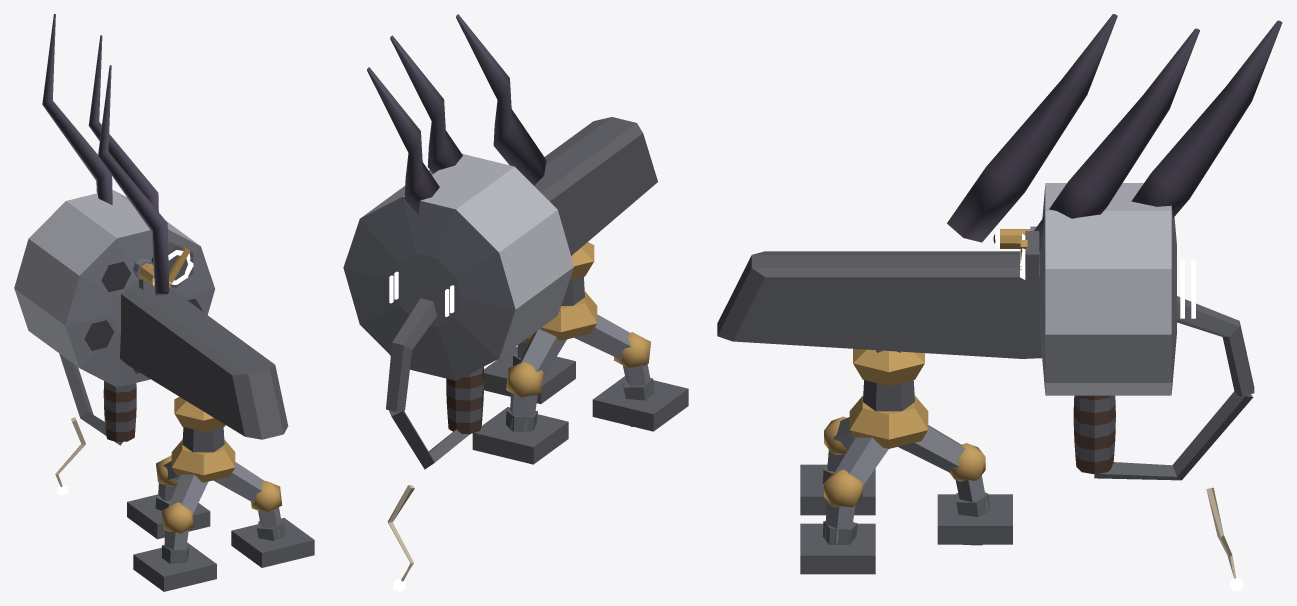
Rendered from gun-dead-mans-gun.glb.
3 views of the same model, side by side, from view 1: azimuth 30°, elevation 25°; view 2: azimuth 150°, elevation 25°; view 3: azimuth 270°, elevation 25° (orthographic). The views are drawn at different scales.
Parts seen in each view (by area): view 1: gun-dead-mans-gun, sway_sinew; view 2: gun-dead-mans-gun, sway_sinew, pulse_breath; view 3: gun-dead-mans-gun, sway_sinew.
Boxes of the visible parts, box(x1,y1,x2,y2) form: gun-dead-mans-gun: box(14, 14, 314, 591); sway_sinew: box(55, 417, 85, 495); gun-dead-mans-gun: box(343, 14, 688, 469); sway_sinew: box(387, 485, 414, 591); pulse_breath: box(389, 271, 454, 316); gun-dead-mans-gun: box(717, 14, 1282, 574); sway_sinew: box(1206, 487, 1243, 591).
Bounding box in the file's own units: 0.3137 × 0.9282 × 0.8237.
